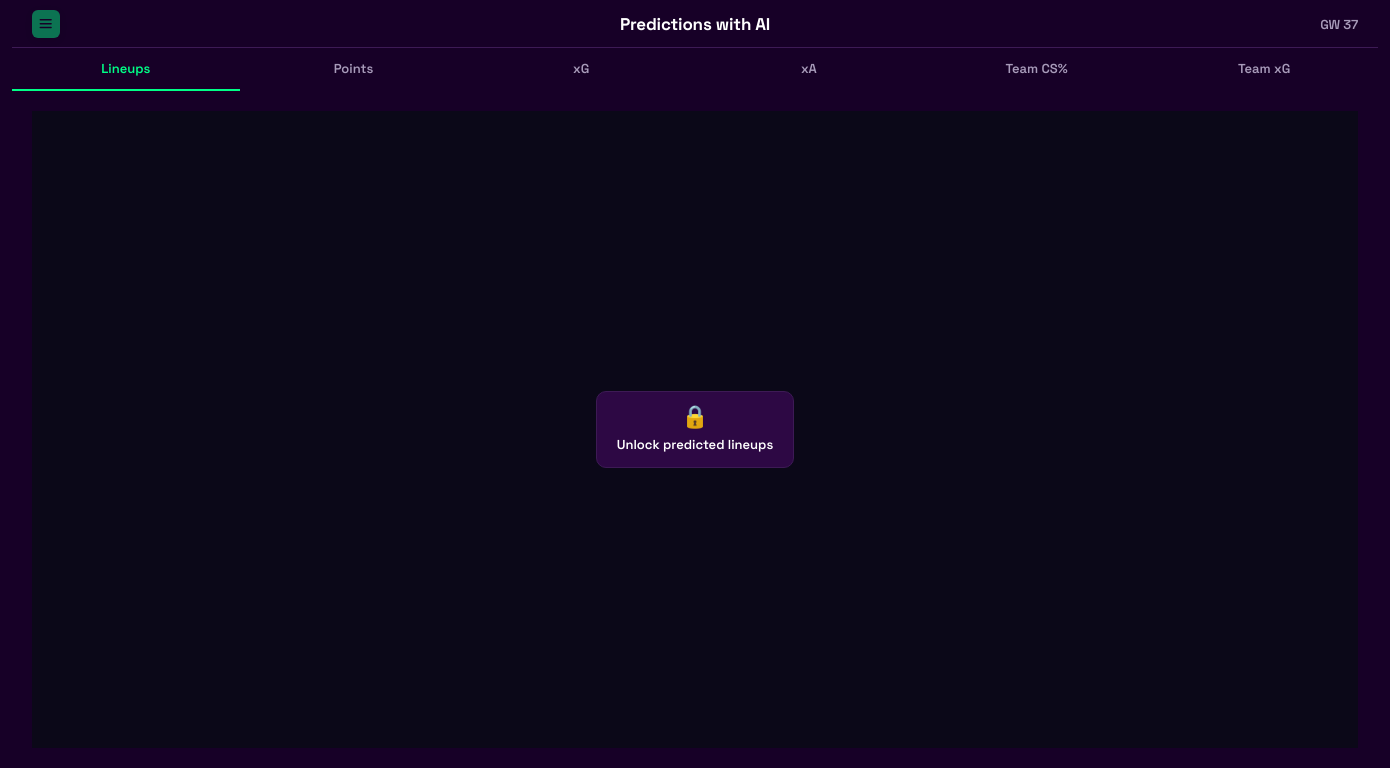
Scenario: PredictionsScreen › CS% tab › shows top 2 teams and lock overlay for free user
Click the tab "Team CS%": (1037, 70) [923,48,1150,91]
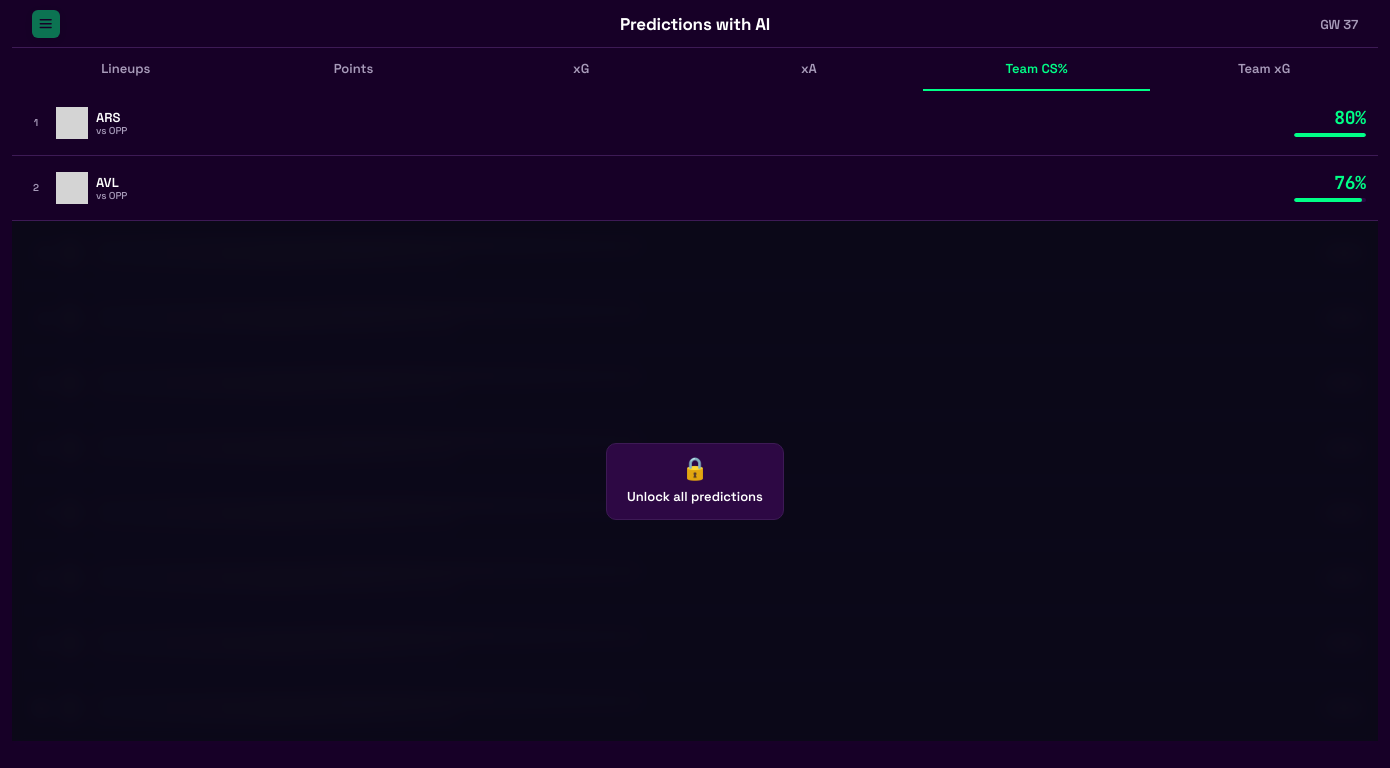
Expected: the text "80%" is shown 2 times, [1334,109,1366,127]; [1334,174,1366,192]
Expected: the text "Unlock all predictions" is shown, [627,488,763,504]
